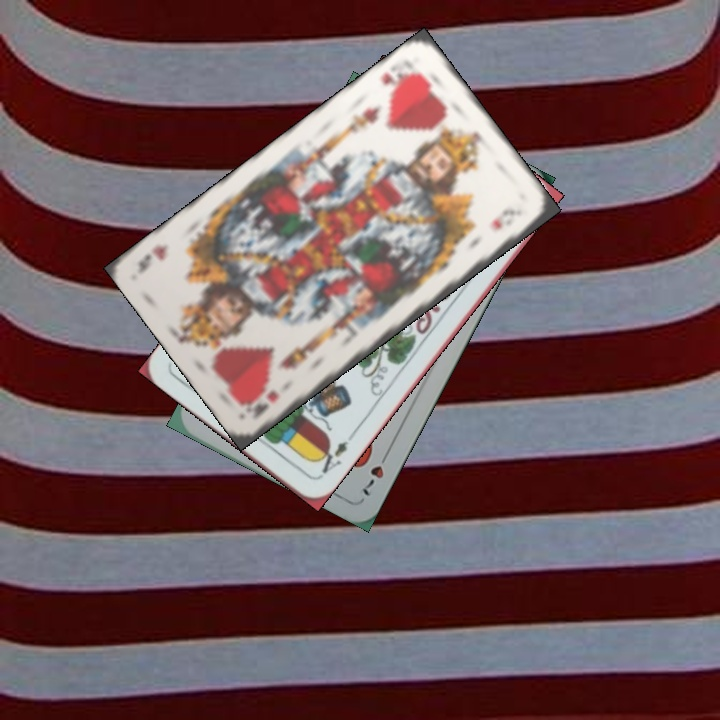EA: (312, 436, 351, 481)
H7: (358, 446, 393, 499)
HK: (377, 66, 421, 98), (247, 385, 281, 422)
